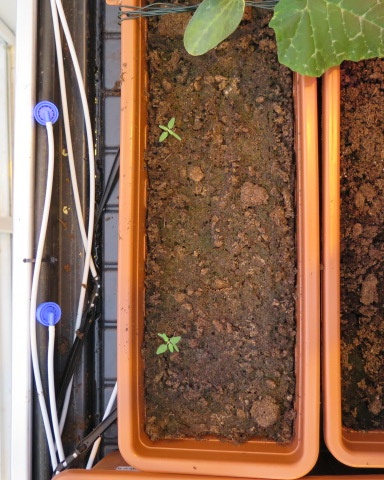weed: (153, 328, 182, 357), (155, 114, 183, 143)
